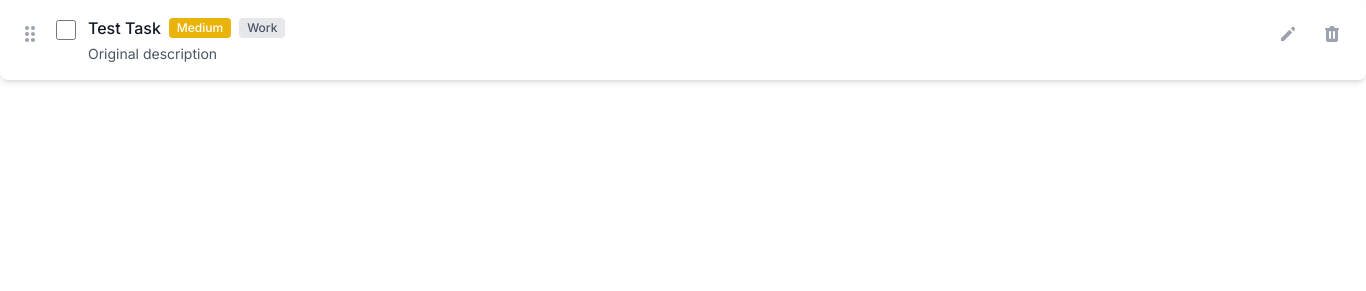
Test: TodoItem Component - Auto Fill Feature › should update description field with AI response
The width and height of the screenshot is (1366, 291).
Click the button titled "Edit": point(1288, 34) [1270, 16, 1306, 52]
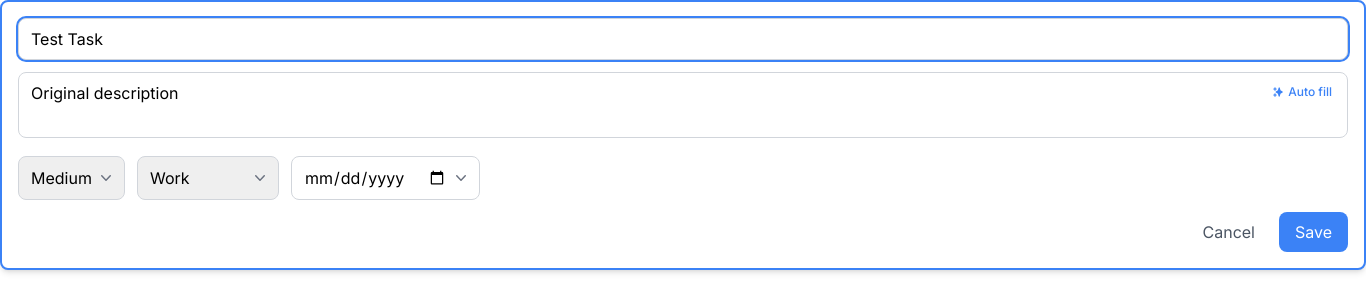
Click the button "Auto fill": point(1302, 92) [1264, 80, 1340, 104]
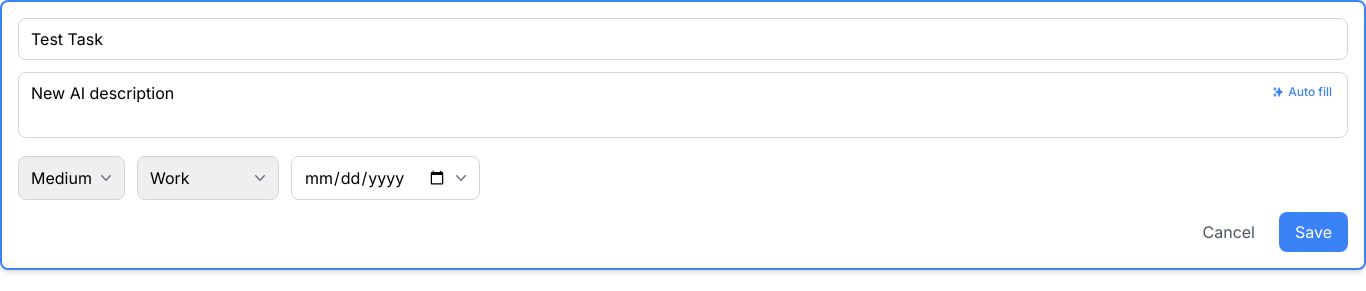
Expected: the text box with placeholder "Description (optional)" holds "New AI description", [18, 72, 1348, 138]
